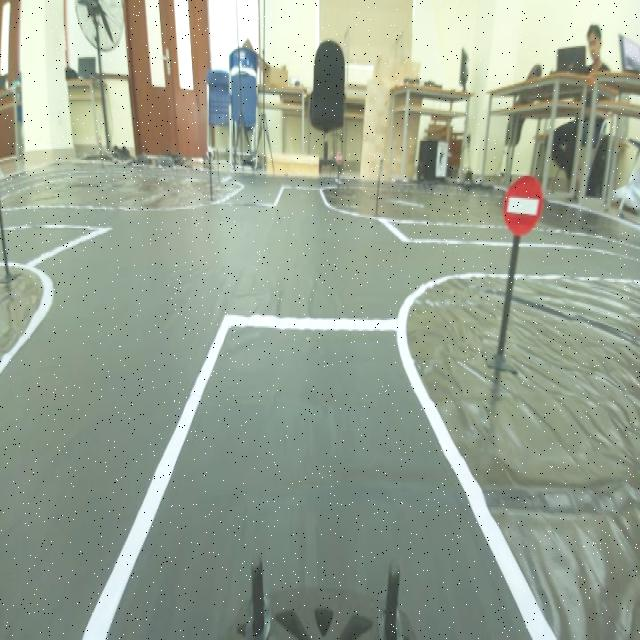no_entry: (502, 167, 544, 250)
